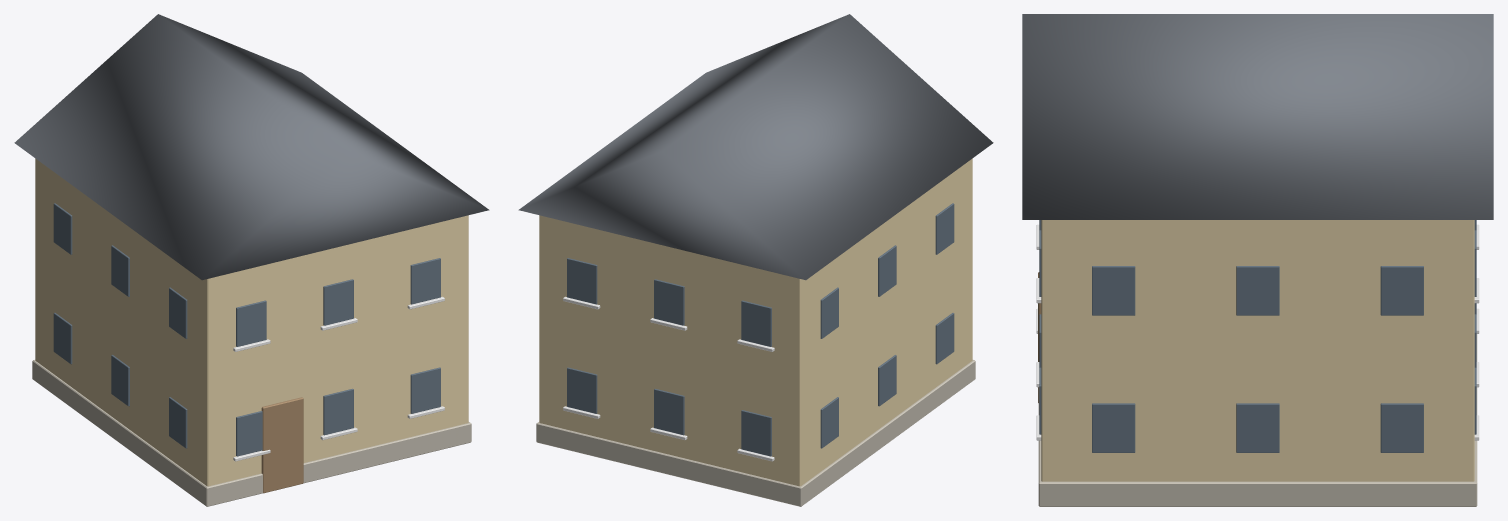
Rendered from house_townhouse.glb.
3 renders of one model, left to right at view 1: azimuth 30°, elevation 25°; view 2: azimuth 150°, elevation 25°; view 3: azimuth 270°, elevation 25°, orthographic. The views are drawn at different scales.
Parts seen in each view (by area): view 1: house_townhouse; view 2: house_townhouse; view 3: house_townhouse.
Boxes of the visible parts, x1,y1,x2,y2 form: house_townhouse: [14, 14, 489, 506]; house_townhouse: [518, 14, 993, 506]; house_townhouse: [1022, 14, 1493, 506].
Size of the model in its own units: 7.7 by 8.4 by 8.7.
